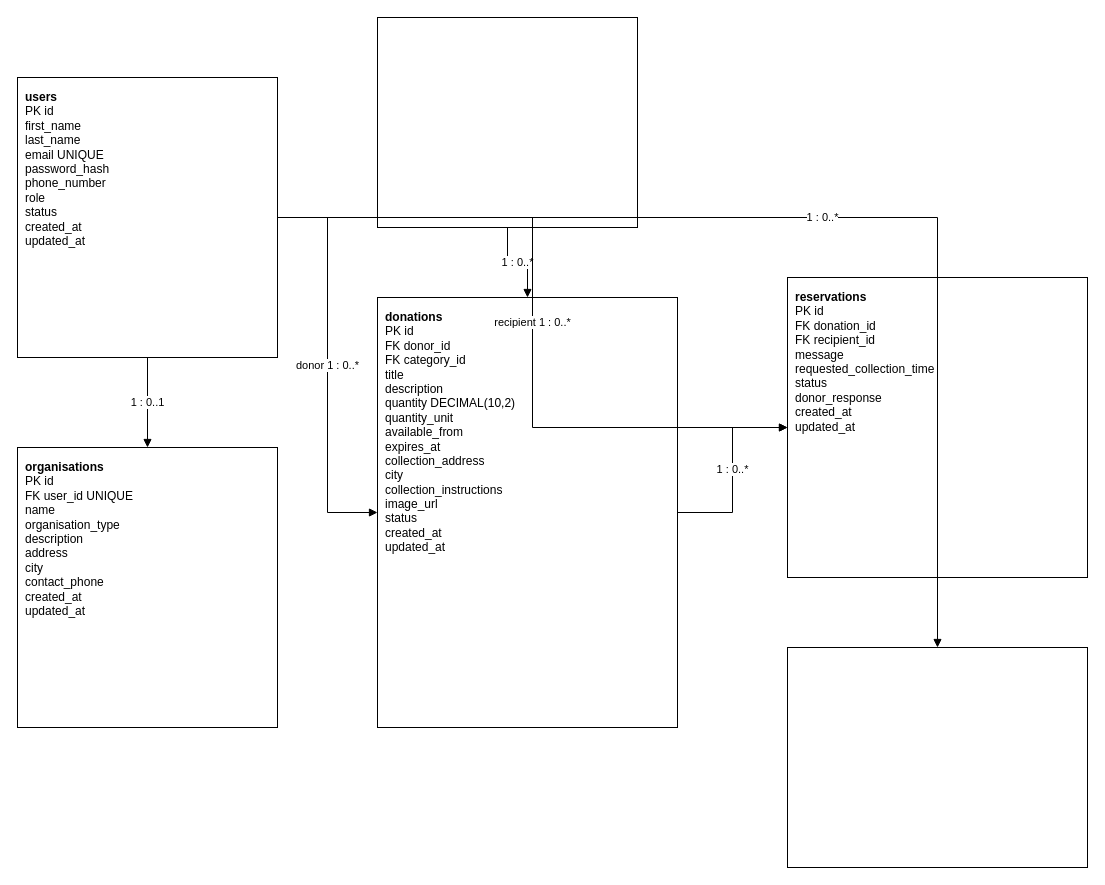
Image size: 1105x885. Some labels were removed from this diagram. Each missing label, with the centre of its shape:
food_categories PK id name UNIQUE description active created_at updated_at: the point at 507,122
password_reset_tokens PK id FK user_id token_hash expires_at used_at created_at: the point at 937,757
